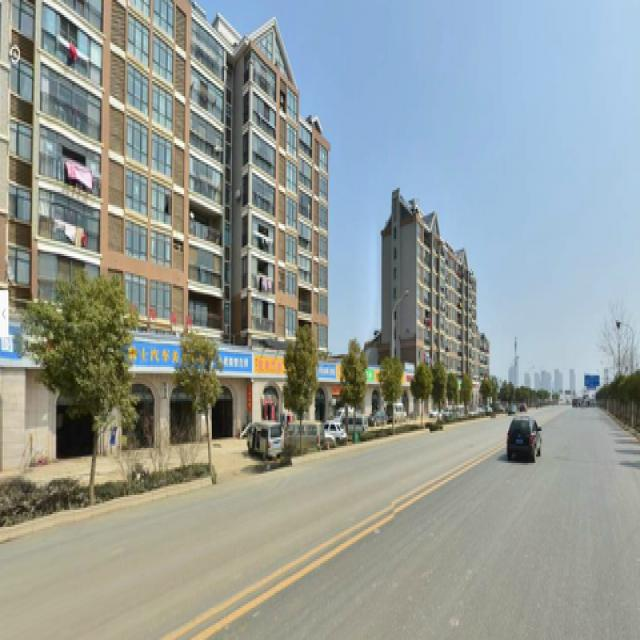cinn: (60, 275, 124, 493), (183, 329, 224, 484), (280, 333, 312, 456), (339, 346, 365, 444), (382, 354, 402, 431)
